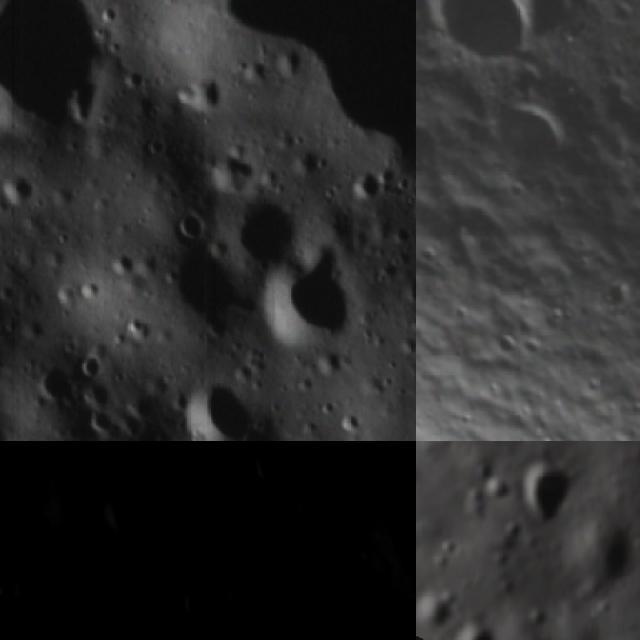crater: (0, 0, 131, 153), (473, 79, 600, 206), (416, 0, 572, 93), (242, 248, 360, 364), (140, 236, 246, 337), (207, 184, 310, 277), (42, 448, 108, 540), (513, 451, 586, 525), (564, 518, 640, 587), (174, 386, 250, 441), (98, 474, 150, 548), (24, 363, 82, 412), (274, 510, 325, 559), (248, 441, 292, 497), (343, 152, 383, 206), (595, 271, 640, 318), (180, 74, 228, 116), (416, 588, 457, 634), (310, 613, 374, 640), (177, 576, 217, 618), (36, 609, 87, 640), (0, 170, 40, 206), (481, 469, 518, 507), (448, 615, 499, 640), (0, 550, 21, 604), (105, 630, 144, 640)
